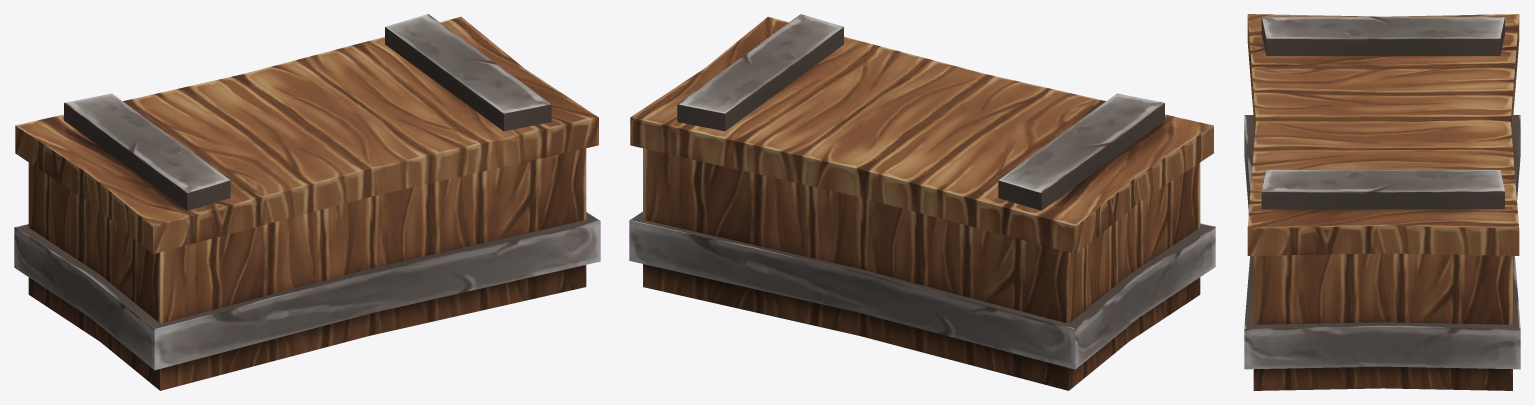
3 renders of one model, left to right at view 1: azimuth 30°, elevation 25°; view 2: azimuth 150°, elevation 25°; view 3: azimuth 270°, elevation 25°, orthographic.
Visible parts, largest first — view 1: Box_2; view 2: Box_2; view 3: Box_2.
Boxes of the visible parts, x1,y1,x2,y2 form: Box_2: (14, 14, 600, 390); Box_2: (629, 14, 1215, 390); Box_2: (1244, 14, 1520, 390).
Size of the model in its own units: 391 by 157 by 213.
